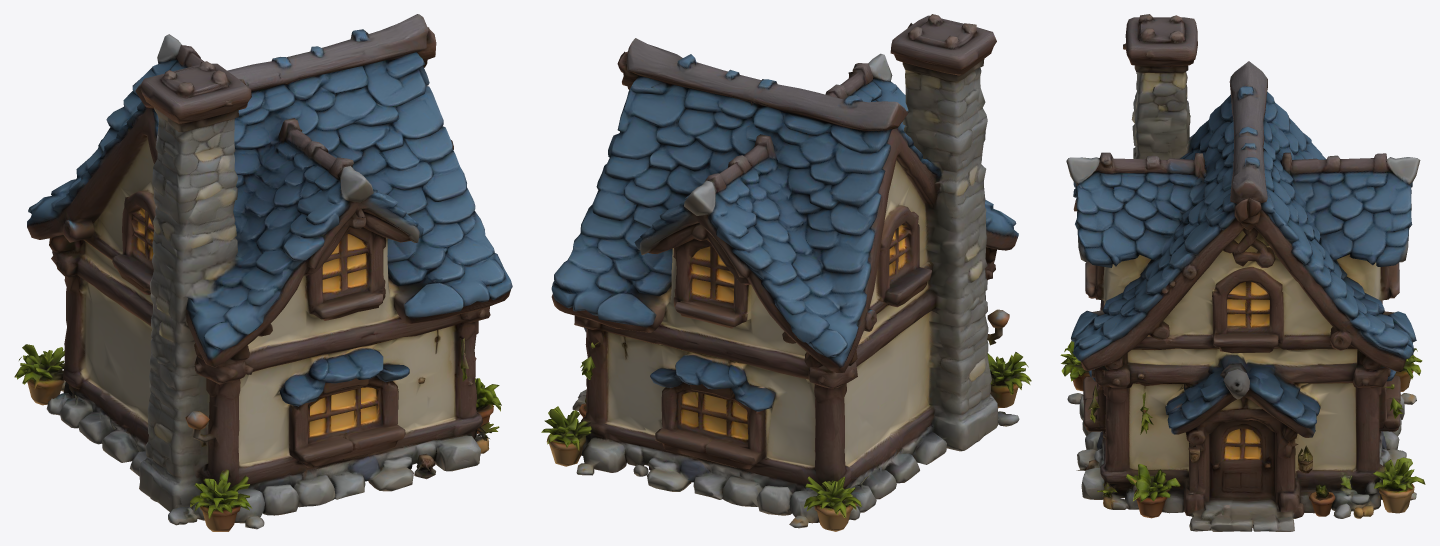
File: townCottage.glb
The picture shows the model from 3 angles, left to right: view 1: azimuth 30°, elevation 25°; view 2: azimuth 150°, elevation 25°; view 3: azimuth 270°, elevation 25°; orthographic projection. The views are drawn at different scales.
Parts seen in each view (by area): view 1: pb_node; view 2: pb_node; view 3: pb_node.
Boxes of the visible parts, box(x1,y1,x2,y2) form: pb_node: box(14, 14, 512, 531); pb_node: box(541, 14, 1031, 531); pb_node: box(1060, 14, 1425, 531).
Size of the model in its own units: 0.9116 by 1 by 0.8828.
Materials: 1 (1 with a texture image).
